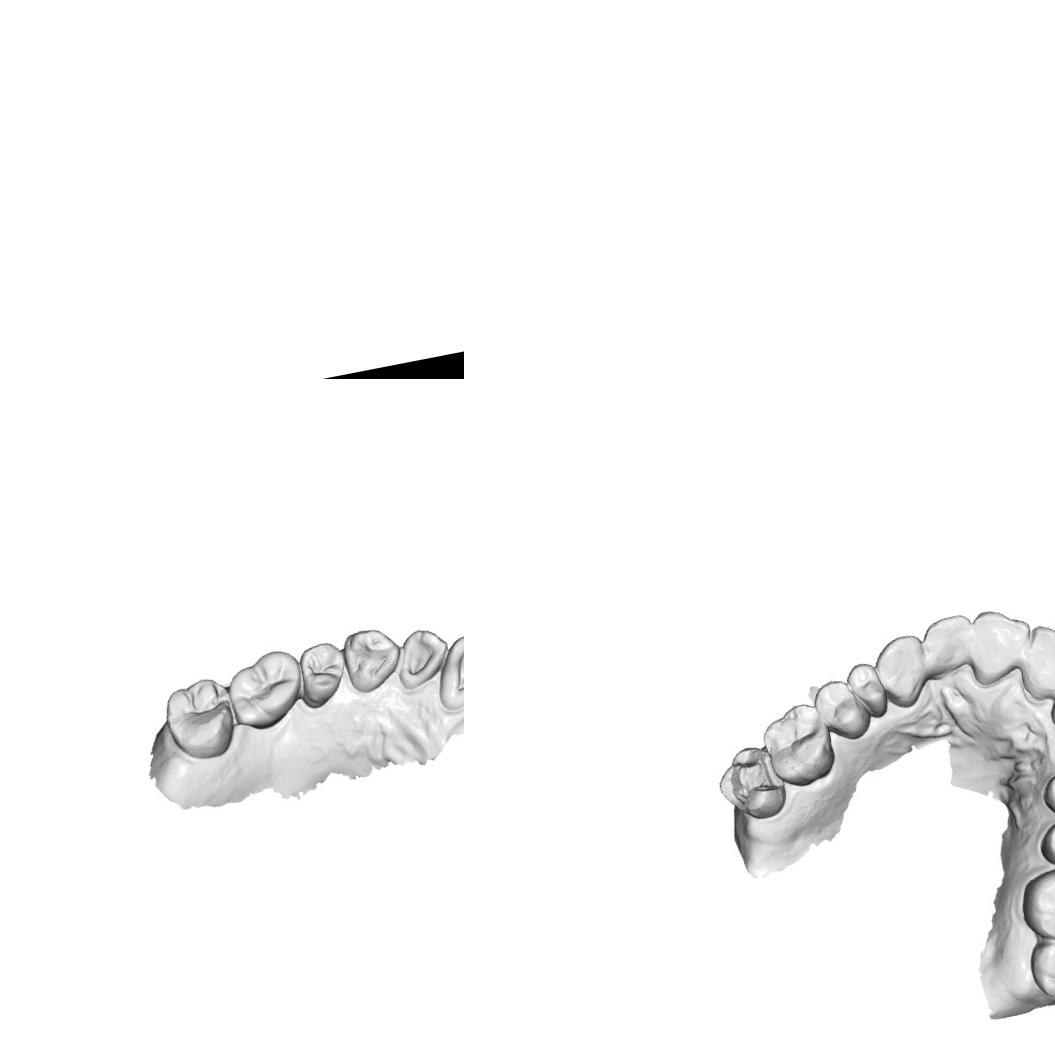canine: (868, 629, 935, 715), (336, 622, 407, 696)
incisor: (961, 602, 1039, 688), (388, 622, 456, 692), (917, 609, 978, 676), (1011, 616, 1055, 701), (425, 626, 464, 714), (1039, 658, 1055, 733)
molar: (754, 696, 842, 793), (221, 644, 310, 735), (157, 672, 242, 765), (708, 738, 792, 827), (1013, 855, 1055, 948), (1023, 929, 1055, 1003)
premolar: (809, 672, 875, 746), (294, 638, 352, 710), (842, 655, 890, 723), (1033, 812, 1055, 877), (1037, 763, 1055, 827)
